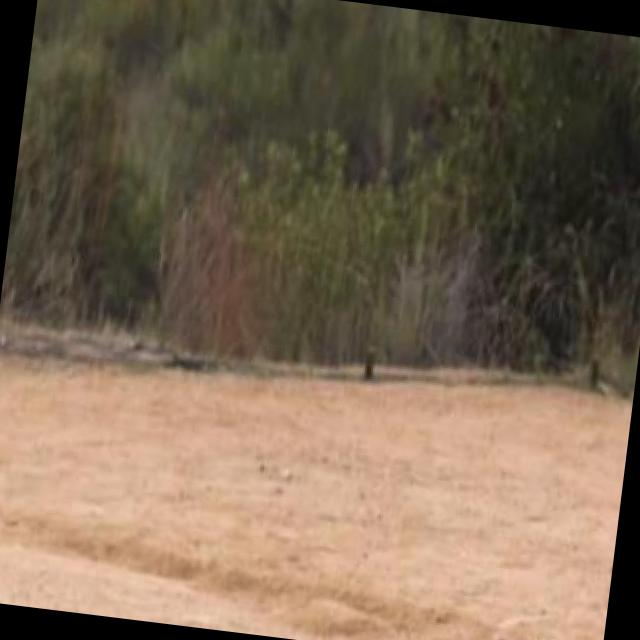Guns: (595, 241, 640, 510)
